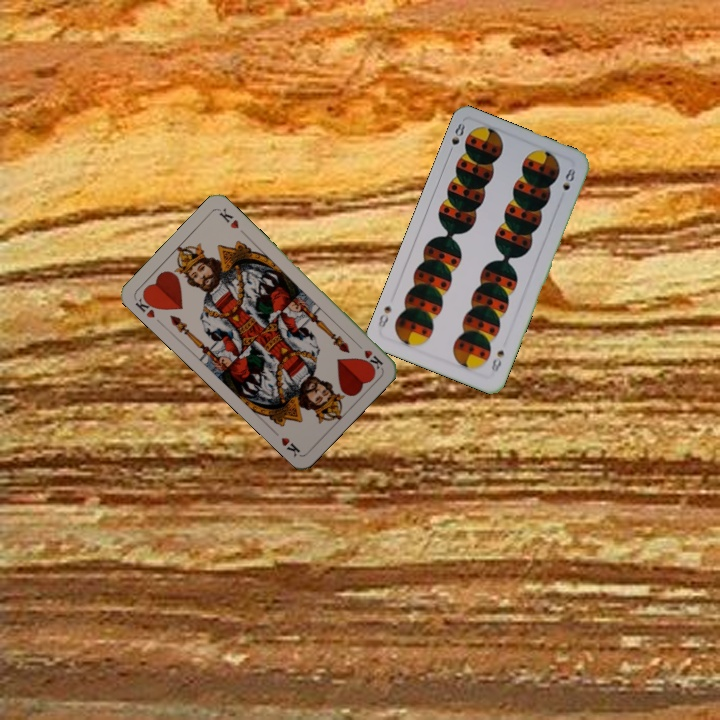HK: (351, 338, 385, 372), (131, 290, 161, 320)
S8: (444, 119, 468, 158), (487, 346, 507, 375)
